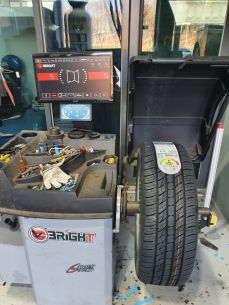new_condition: (137, 173, 199, 291)
